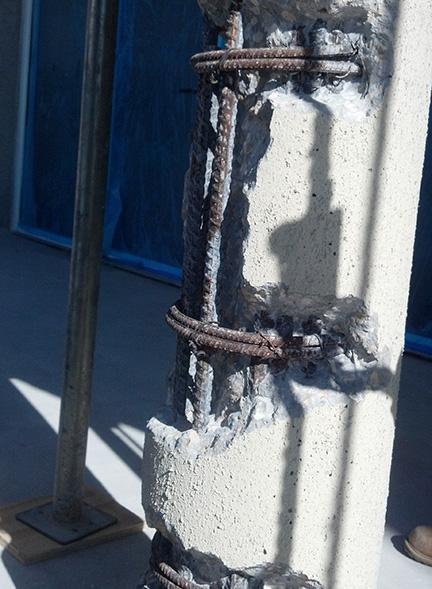exposed_rebar: (167, 13, 361, 430)
